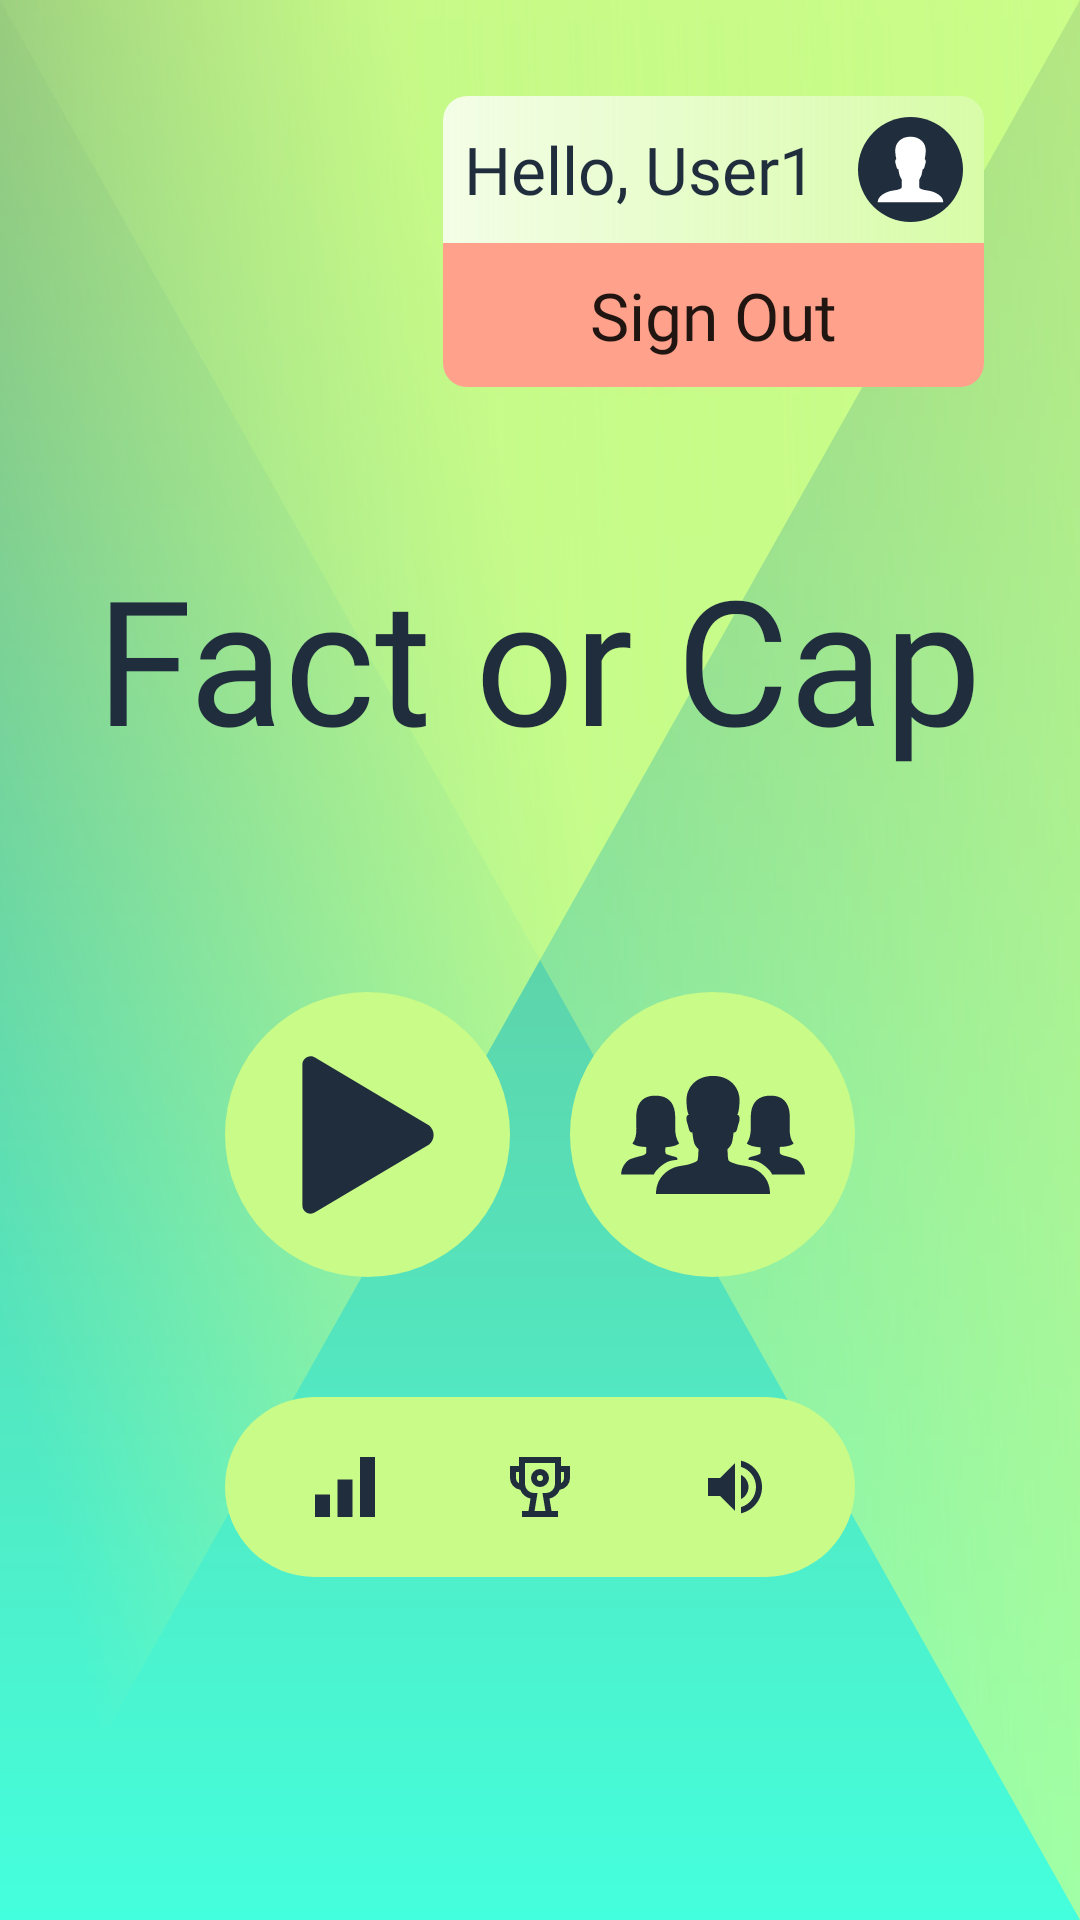

Icon click points for this 1080w x 1920h phone screenshot, format [x,y]:
Leaderboard: [540,1487]
person: [910,169]
Play online: [712,1134]
Play singlemode: [367,1134]
Statistics: [345,1487]
